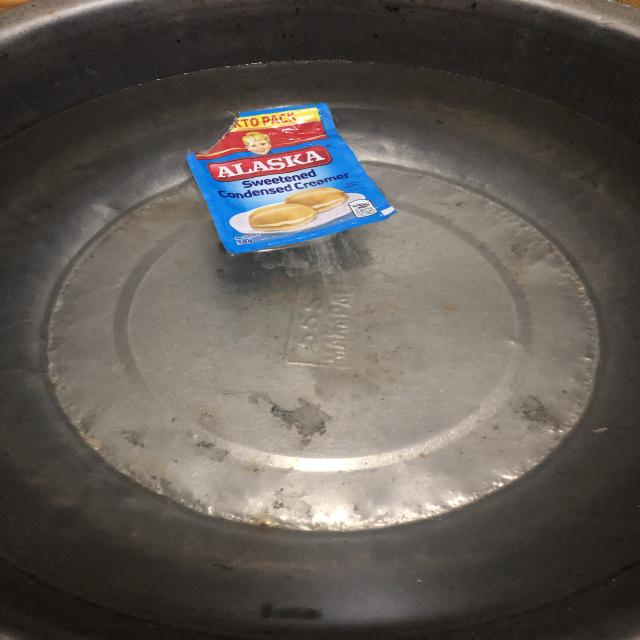Plastic Wrapper: (191, 97, 401, 265)
